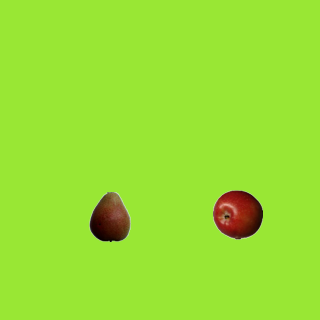Apple Braeburn: (212, 189, 262, 239)
Pear Forelle: (84, 191, 134, 241)
